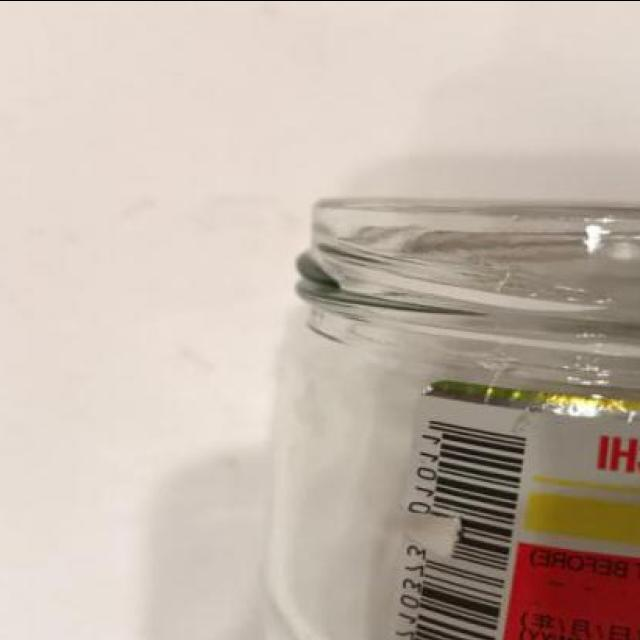kaca: (267, 195, 640, 640)
